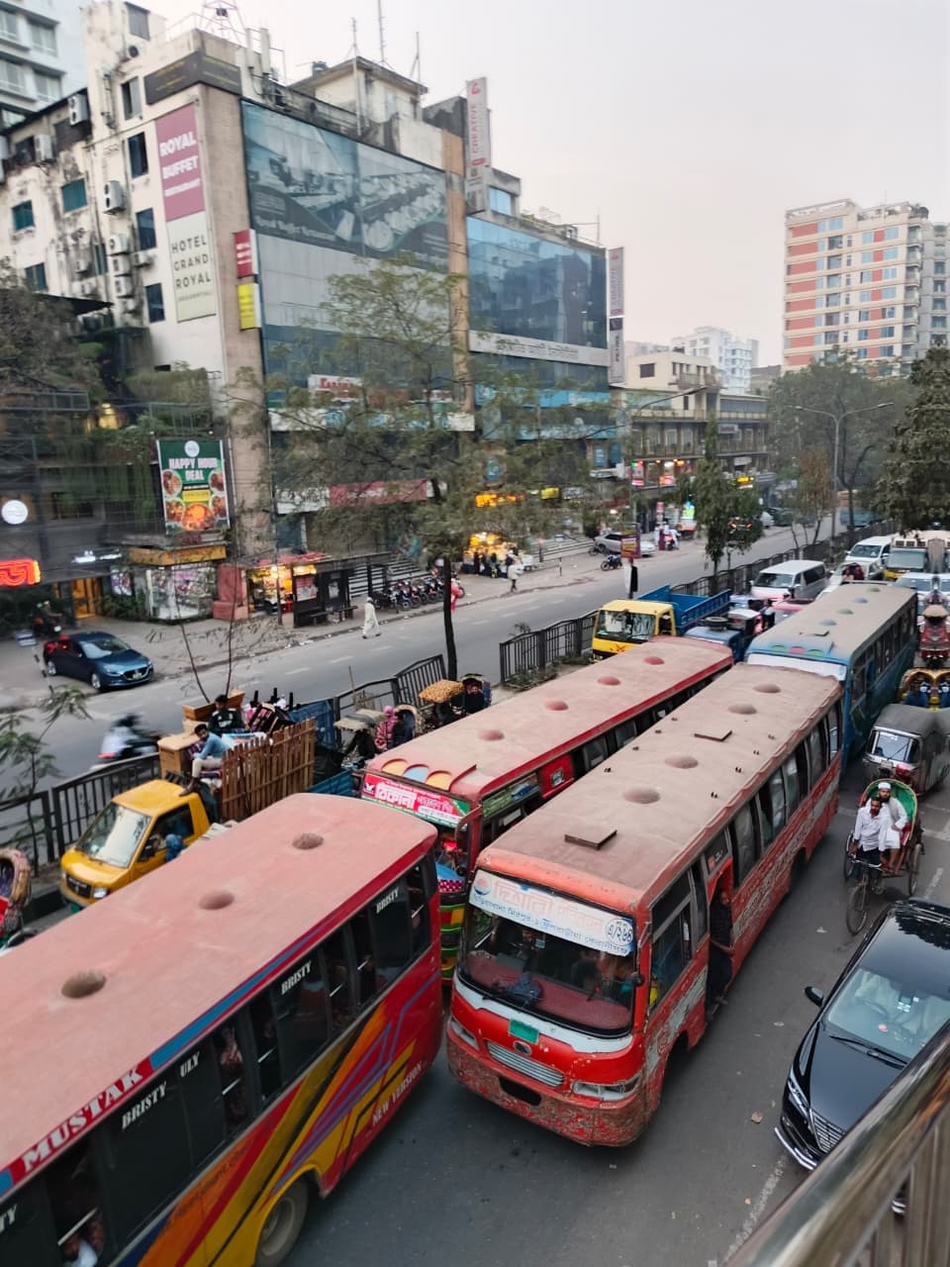Bus: (0, 795, 441, 1266), (446, 664, 844, 1145), (361, 638, 731, 887)
